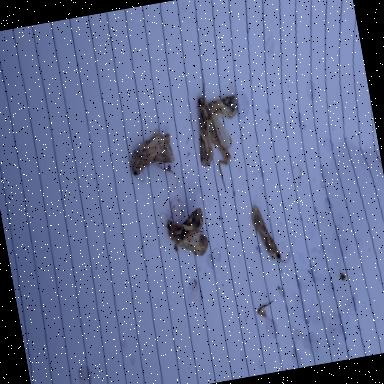abw: (184, 63, 254, 195), (125, 125, 180, 196), (159, 205, 211, 262), (249, 200, 292, 267)
